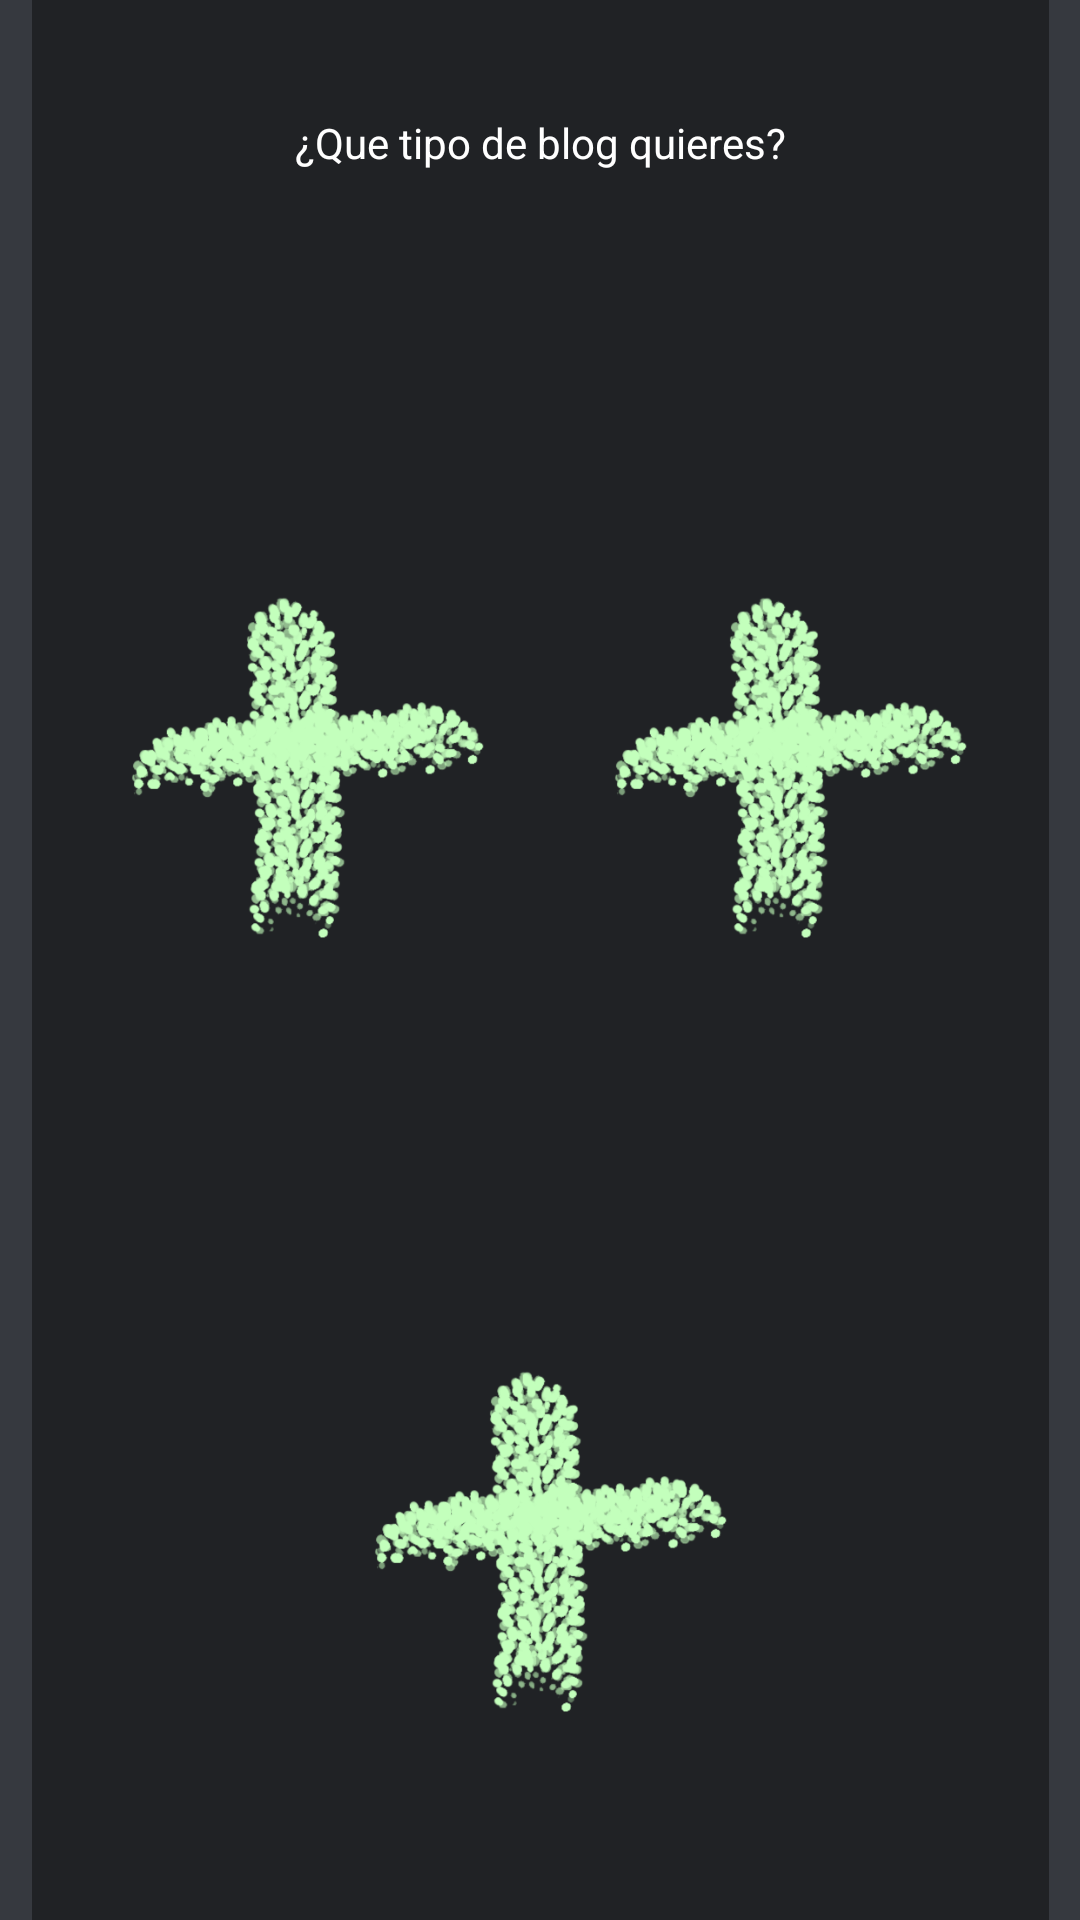

Screen size 1080×1920. Icon name, then its box in pixels as (x1, y1, x2, y2):
add: (132, 598, 484, 938), (615, 598, 967, 938), (375, 1372, 727, 1712)
